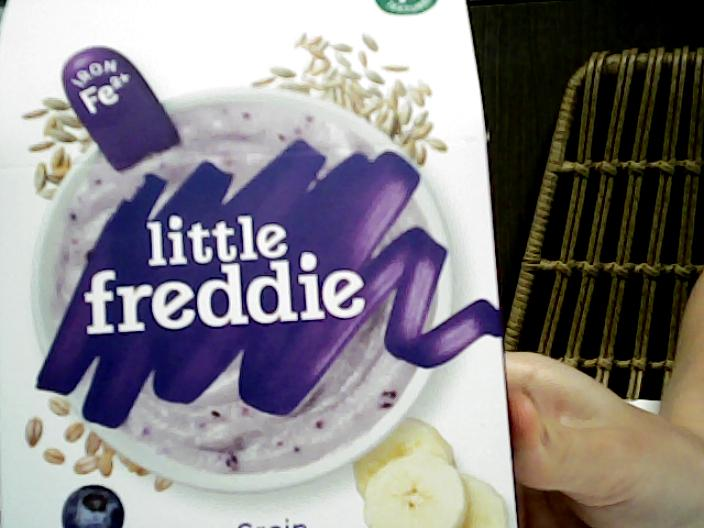Babyfood_100-199g_NonHalal_NonHealthy: (31, 51, 472, 525)
